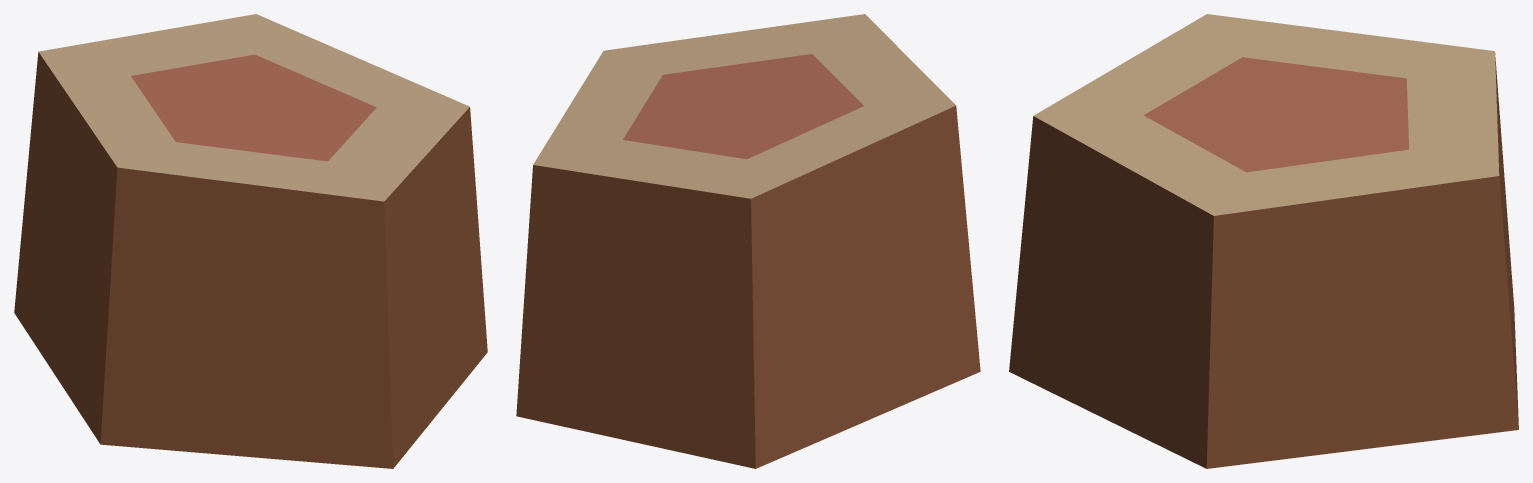
Rendered from TB_Env_Trunk_Short_D.FBX.
3 views of the same model, side by side, from view 1: azimuth 30°, elevation 25°; view 2: azimuth 150°, elevation 25°; view 3: azimuth 270°, elevation 25° (orthographic).
Visible parts, largest first — view 1: TB_Env_Trunk_Short_D; view 2: TB_Env_Trunk_Short_D; view 3: TB_Env_Trunk_Short_D.
Part boxes in pixels (<box>): TB_Env_Trunk_Short_D: <box>14,14,487,468</box>; TB_Env_Trunk_Short_D: <box>516,14,980,468</box>; TB_Env_Trunk_Short_D: <box>1009,14,1518,468</box>.
Size of the model in its own units: 0.7209 by 0.4842 by 0.8151.
